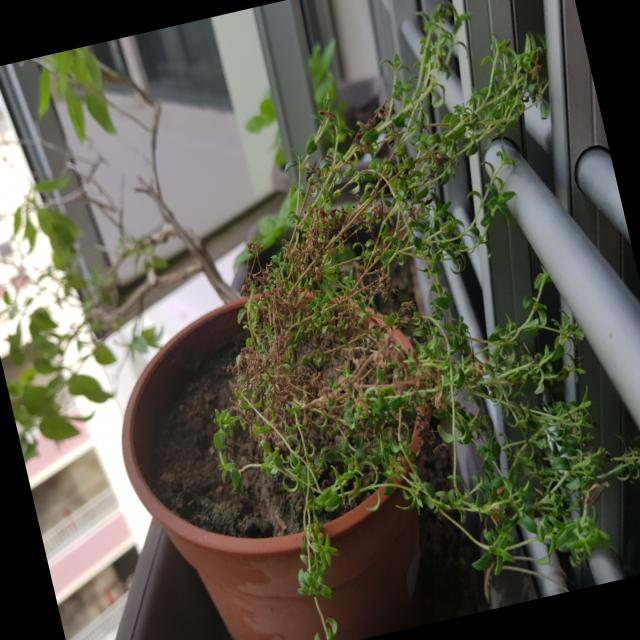Thyme: (152, 0, 640, 628)
